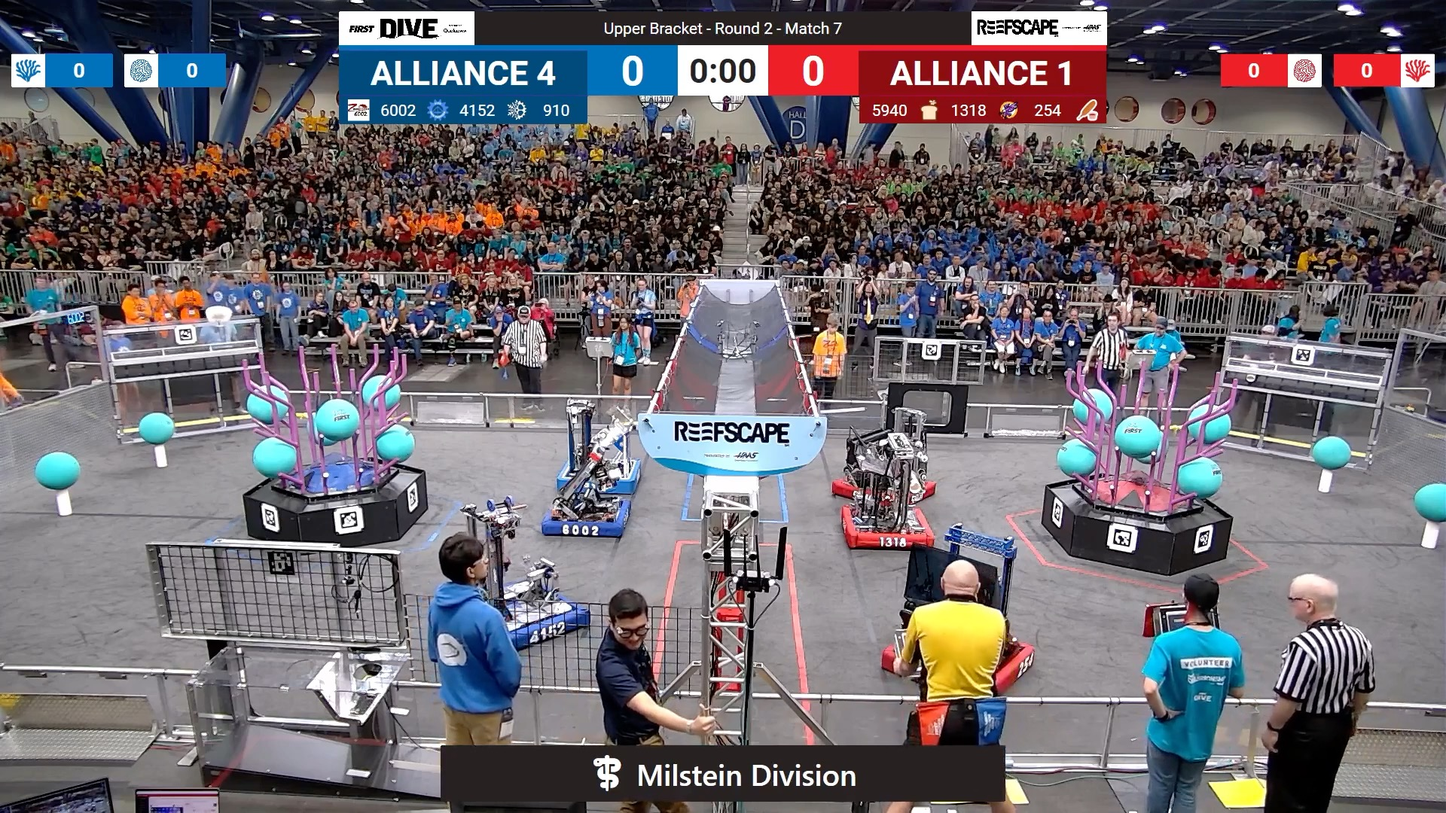bumpers: (872, 624, 1033, 693), (430, 589, 586, 655), (833, 501, 937, 554), (536, 495, 634, 544), (827, 468, 942, 506), (557, 459, 645, 500)
